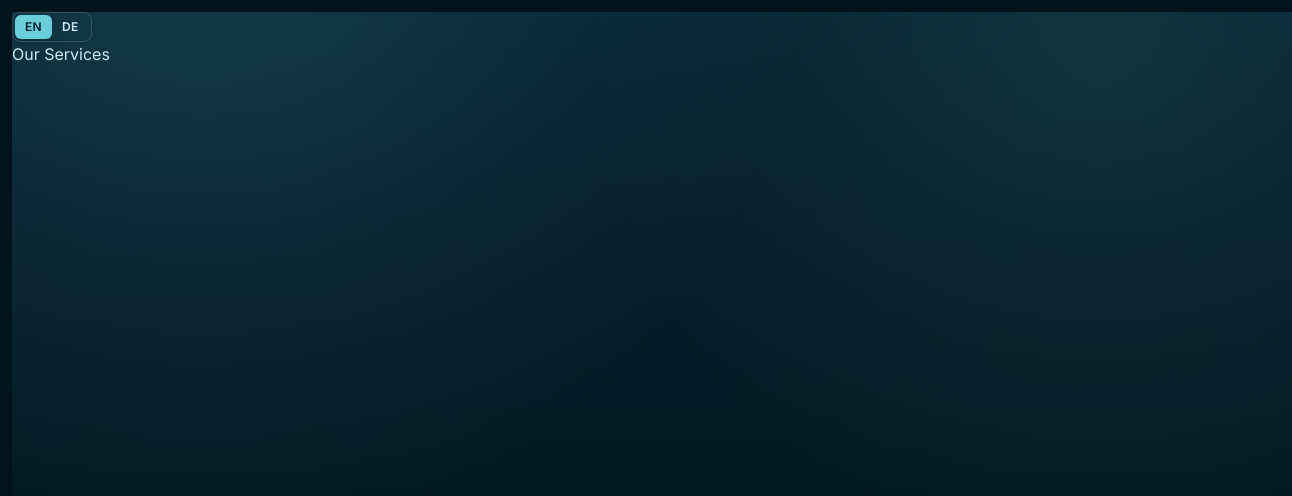
Scenario: LanguageToggle › switches all interface text and marks the active language
The width and height of the screenshot is (1292, 496).
Expected: the text "Our Services" is shown, 12,44 -> 110,64
Click the button with aria-label "deutsch" at (70, 27), box 52,15 -> 88,39
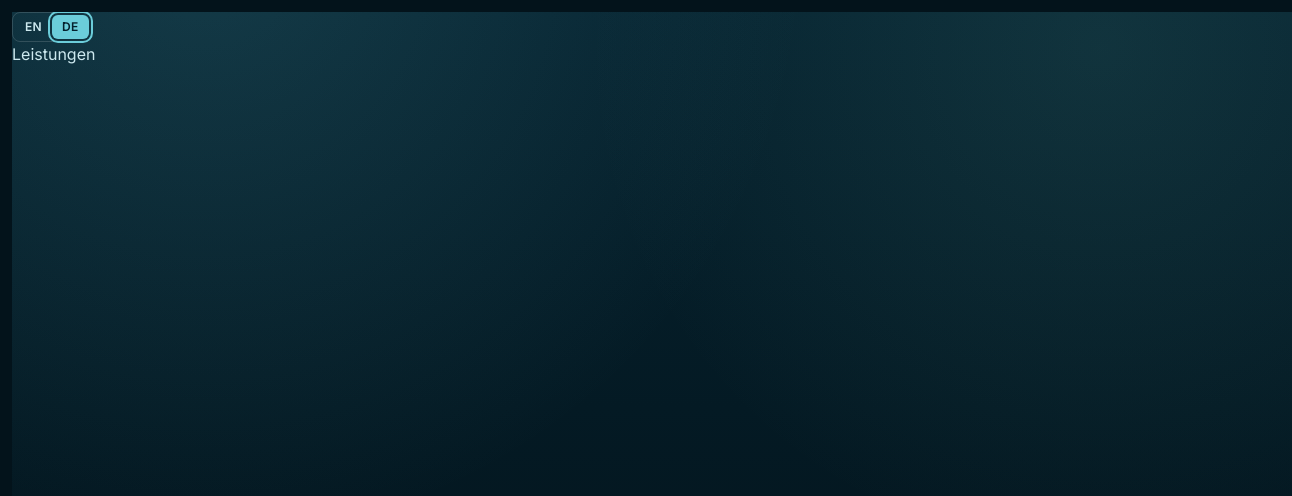
Expected: the text "Leistungen" is shown, 12,44 -> 95,64
